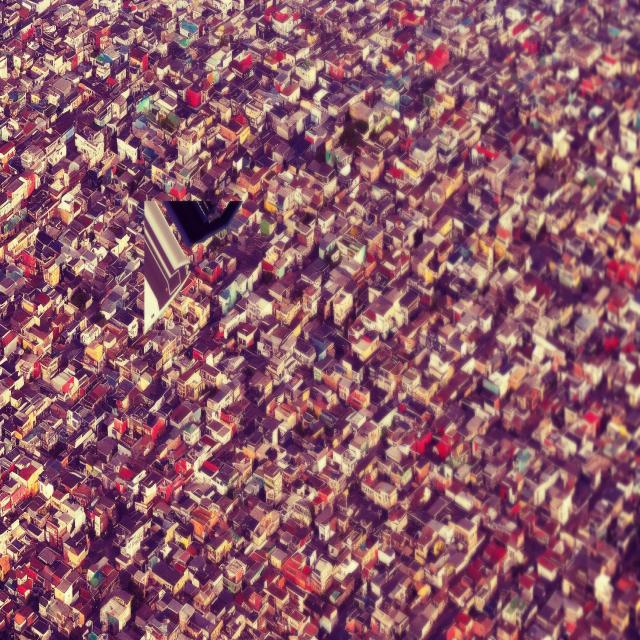airplane: (144, 201, 243, 334)
